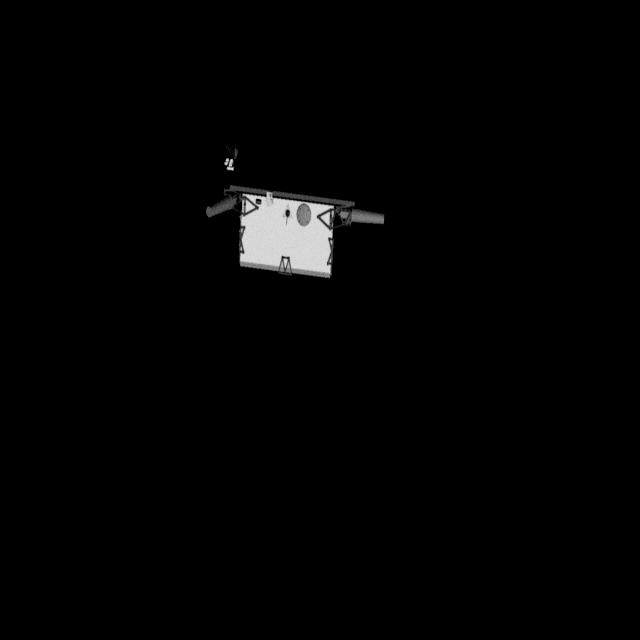medium_debris: (180, 134, 396, 300)
